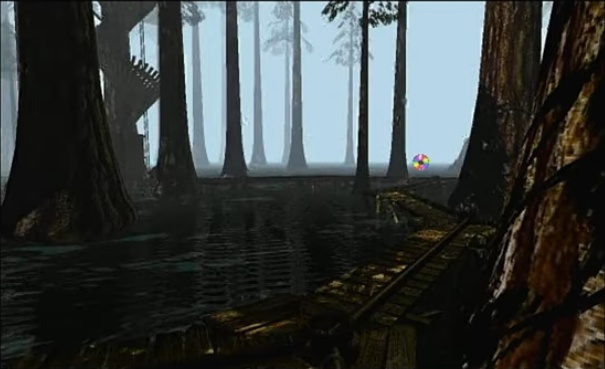Waiting: (408, 149, 433, 172)
